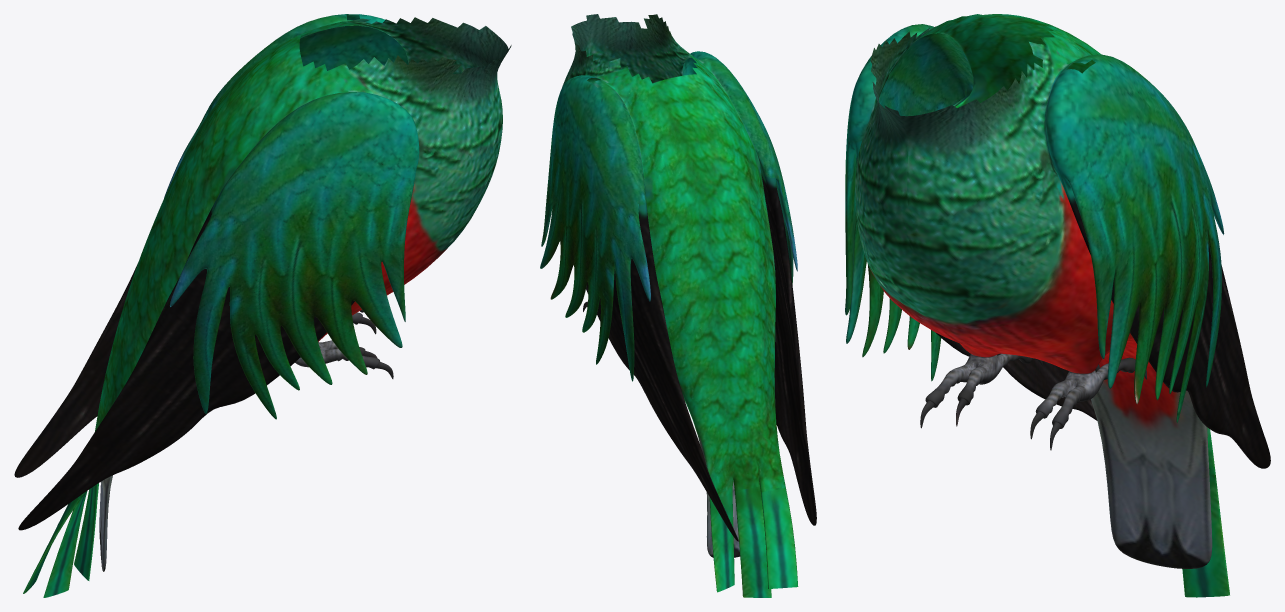
File: pajaro2body.obj
3 views of the same model, side by side, from view 1: azimuth 30°, elevation 25°; view 2: azimuth 150°, elevation 25°; view 3: azimuth 270°, elevation 25° (orthographic). The views are drawn at different scales.
Visible parts, largest first — view 1: 12245_Bird_v1_l2; view 2: 12245_Bird_v1_l2; view 3: 12245_Bird_v1_l2.
Part boxes in pixels (box(x1,y1,x2,y2)): 12245_Bird_v1_l2: box(14, 14, 511, 597); 12245_Bird_v1_l2: box(540, 14, 816, 597); 12245_Bird_v1_l2: box(845, 14, 1270, 597).
Bounding box in the file's own units: 1.26 × 1.75 × 0.9751.
